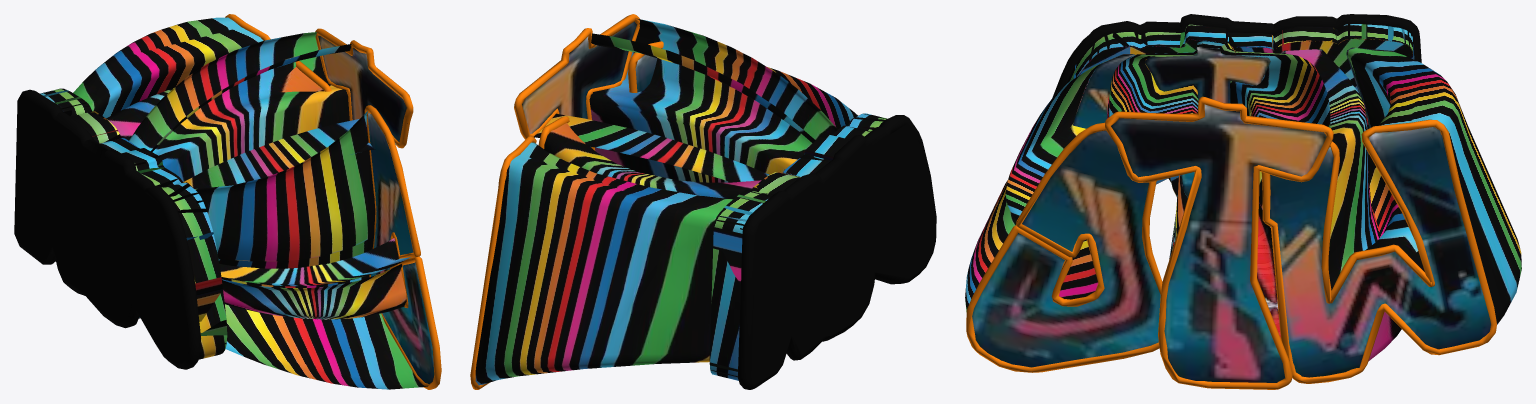
File: graffiti-tag-3d.glb
3 renders of one model, left to right at view 1: azimuth 30°, elevation 25°; view 2: azimuth 150°, elevation 25°; view 3: azimuth 270°, elevation 25°, orthographic. The views are drawn at different scales.
Parts seen in each view (by area): view 1: s.0007, s.0013, s.0001, s.0010; view 2: s.0007, s.0013, s.0001, s.0010; view 3: s.0001, s.0007, s.0010, s.0013.
Part boxes in pixels (box(x1,y1,x2,y2)): s.0007: box(40, 17, 427, 389); s.0013: box(14, 89, 200, 369); s.0001: box(318, 35, 434, 383); s.0010: box(225, 14, 441, 389); s.0007: box(475, 18, 887, 385); s.0013: box(737, 115, 936, 389); s.0001: box(522, 21, 657, 147); s.0010: box(470, 14, 663, 389); s.0001: box(972, 46, 1490, 382); s.0007: box(965, 24, 1521, 361); s.0010: box(966, 96, 1496, 389); s.0013: box(1052, 14, 1421, 181).
Size of the model in its own units: 0.3717 by 0.3457 by 0.5991.
Materials: 4 (2 with a texture image).
